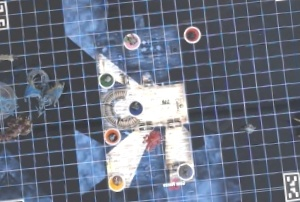blue: (127, 98, 143, 115)
green: (95, 68, 115, 88)
orange: (102, 126, 122, 146)
pink: (120, 29, 141, 51)
red: (182, 22, 203, 44)
violet: (175, 161, 196, 182)
yellow: (108, 172, 126, 191)
